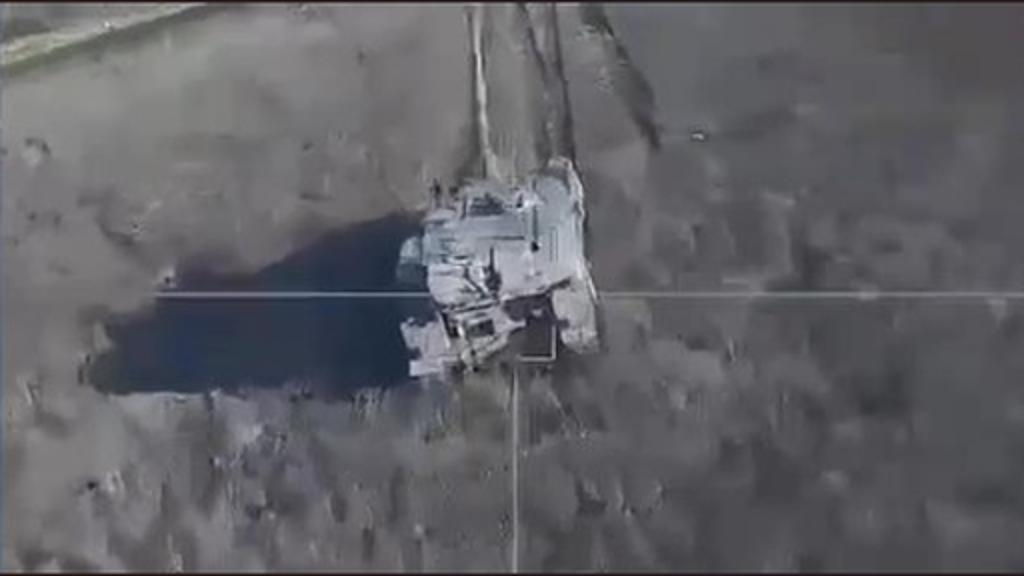ART: (386, 146, 612, 380)
